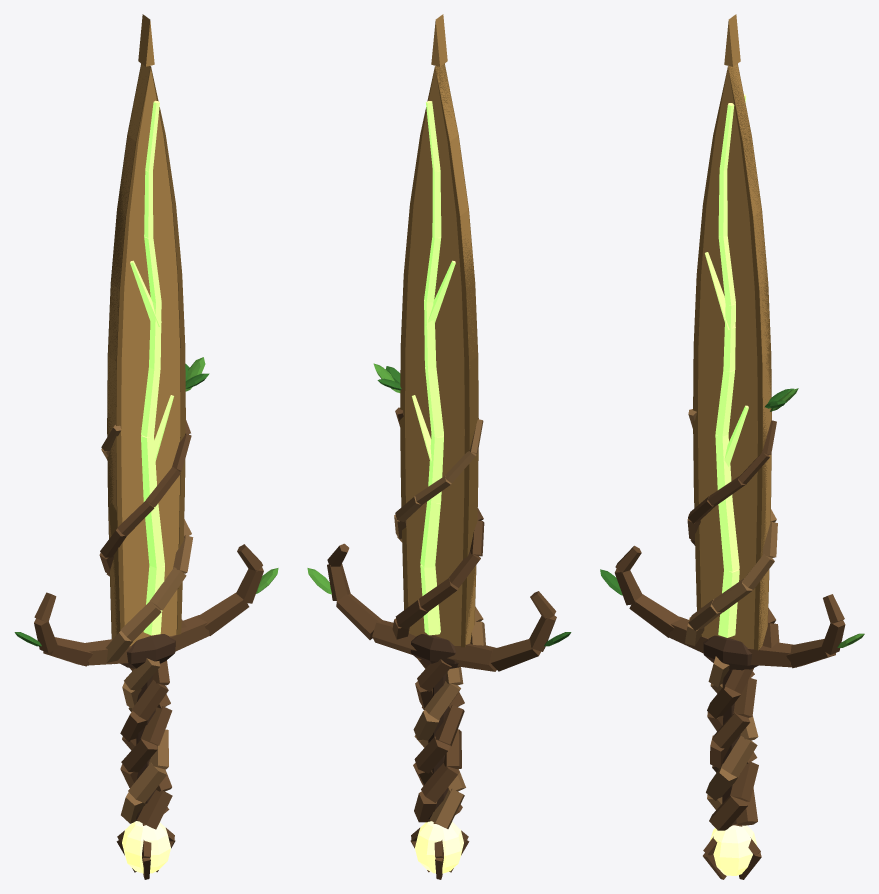
The model's file is roots_longsword.glb.
3 renders of one model, left to right at view 1: azimuth 30°, elevation 25°; view 2: azimuth 150°, elevation 25°; view 3: azimuth 330°, elevation 25°, orthographic.
Visible parts, largest first — view 1: roots_longsword; view 2: roots_longsword; view 3: roots_longsword.
Boxes of the visible parts, <box> form: roots_longsword: <box>14,14,278,879</box>; roots_longsword: <box>307,14,571,879</box>; roots_longsword: <box>600,14,864,879</box>.
Size of the model in its own units: 0.5383 by 1.67 by 0.1136.
